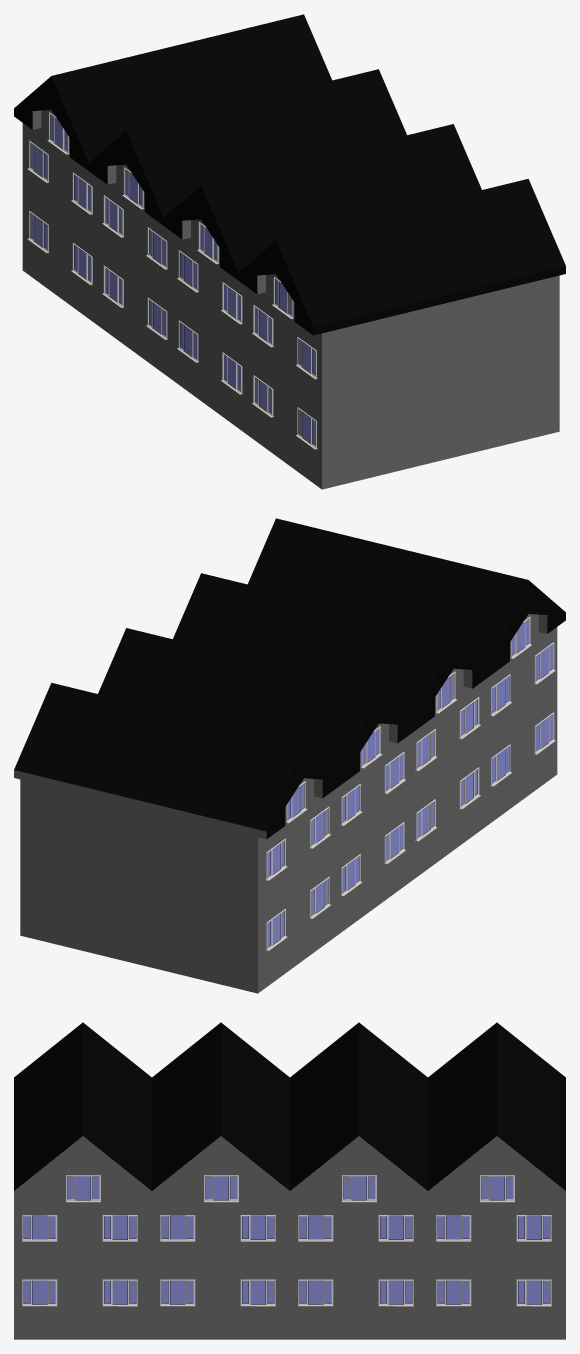
Rendered from FourTerracedHouses.fbx.
The picture shows the model from 3 angles, top to bottom: view 1: azimuth 30°, elevation 25°; view 2: azimuth 150°, elevation 25°; view 3: azimuth 270°, elevation 25°; orthographic projection. The views are drawn at different scales.
Visible parts, largest first — view 1: TerracedHouses; view 2: TerracedHouses; view 3: TerracedHouses.
Part boxes in pixels (bbox=[...]): TerracedHouses: bbox=[14, 14, 565, 489]; TerracedHouses: bbox=[14, 518, 565, 993]; TerracedHouses: bbox=[14, 1022, 565, 1339].
Bounding box in the file's own units: 1169 × 993 × 2400.
